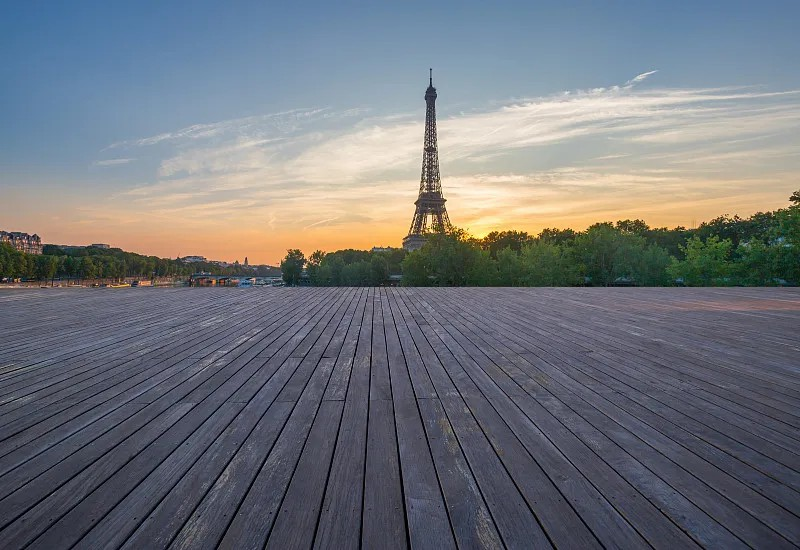Eiffel: (402, 68, 456, 255)
